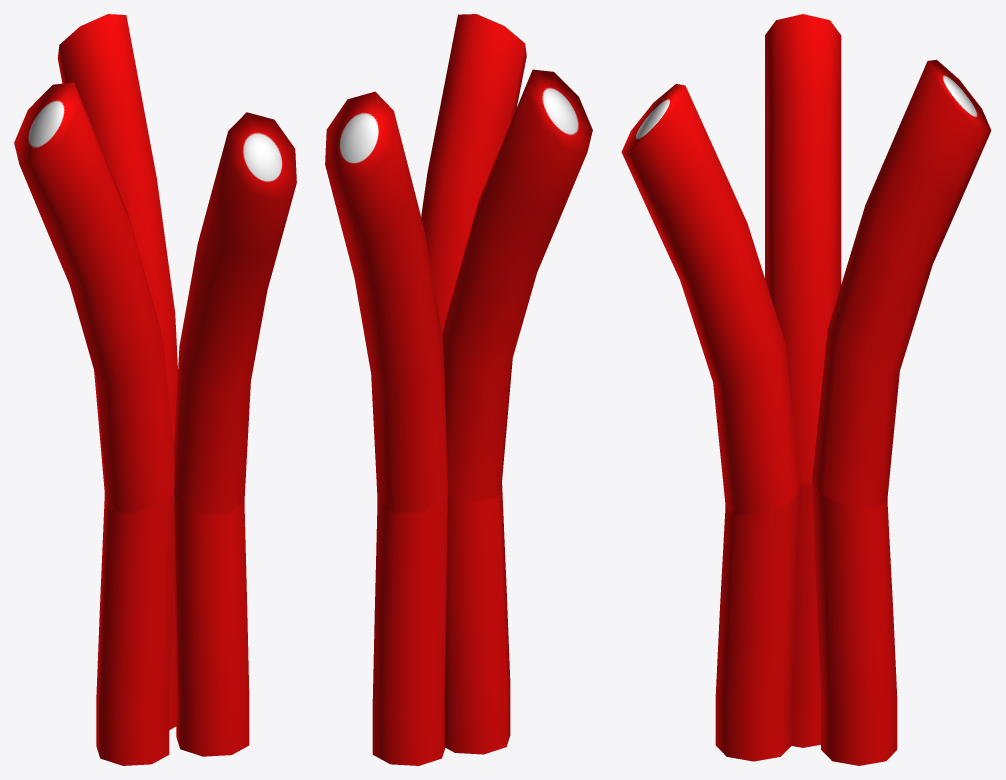
Rendered from Fini.fbx.
3 views of the same model, side by side, from view 1: azimuth 30°, elevation 25°; view 2: azimuth 150°, elevation 25°; view 3: azimuth 270°, elevation 25° (orthographic).
Visible parts, largest first — view 1: polySurface739; view 2: polySurface739; view 3: polySurface739.
Boxes of the visible parts, x1=… form: polySurface739: x1=14, y1=14, x2=296, y2=765; polySurface739: x1=325, y1=14, x2=592, y2=765; polySurface739: x1=621, y1=14, x2=991, y2=765.
Bounding box in the file's own units: 6.17 × 19.94 × 9.7.
